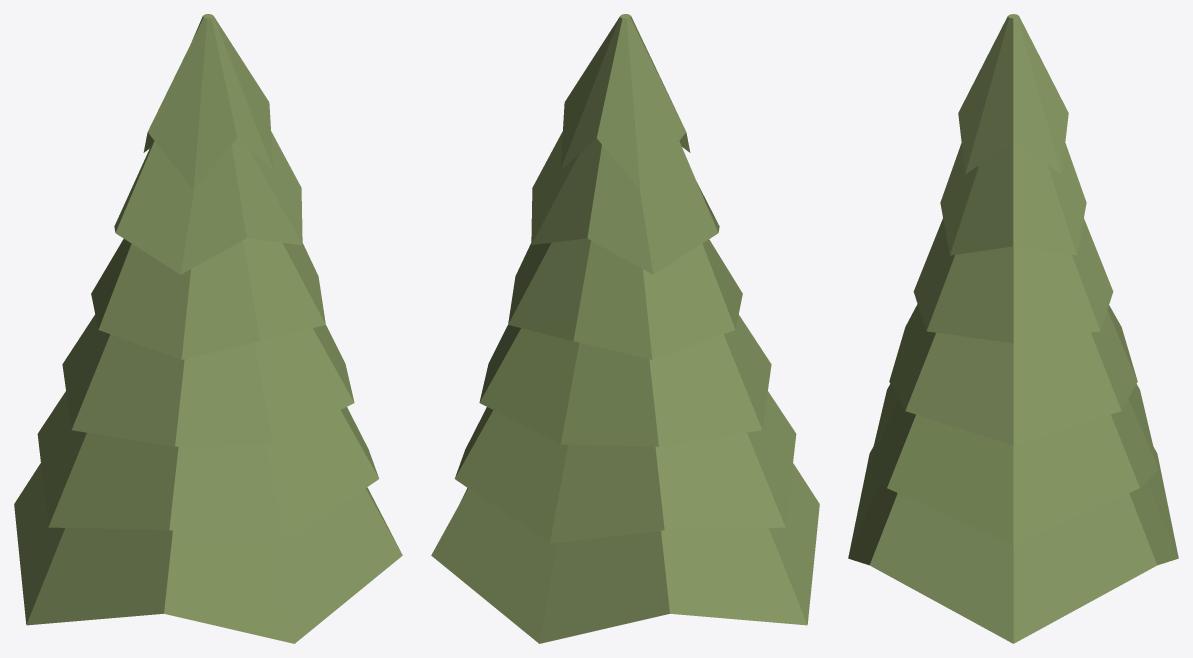
The model's file is Tree2_Leaves.fbx.
3 views of the same model, side by side, from view 1: azimuth 30°, elevation 25°; view 2: azimuth 150°, elevation 25°; view 3: azimuth 270°, elevation 25° (orthographic). The views are drawn at different scales.
Visible parts, largest first — view 1: polySurface63; view 2: polySurface63; view 3: polySurface63.
Part boxes in pixels (x1=…): polySurface63: x1=14, y1=14, x2=402, y2=643; polySurface63: x1=431, y1=14, x2=819, y2=643; polySurface63: x1=848, y1=14, x2=1178, y2=643.
Size of the model in its own units: 100 by 148 by 82.07.
